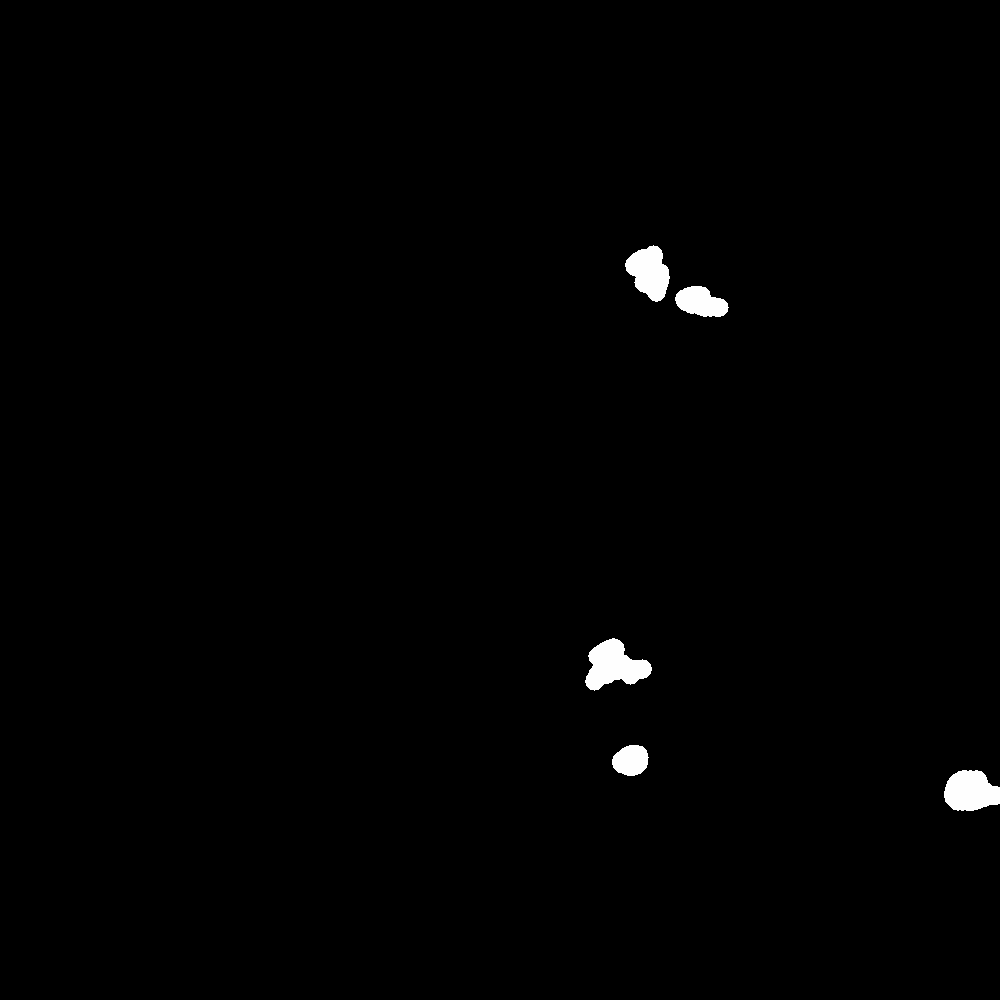illegal: (632, 240, 723, 318), (937, 764, 1000, 818), (585, 638, 654, 684), (612, 740, 665, 773)
